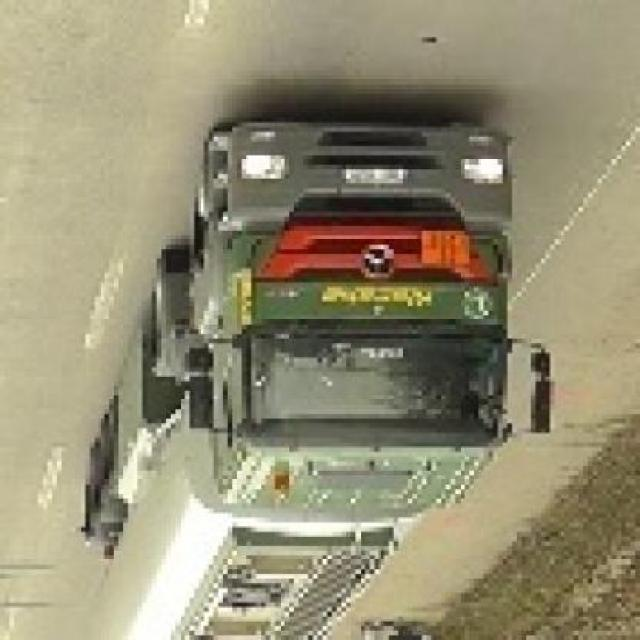truck: (72, 124, 546, 640)
